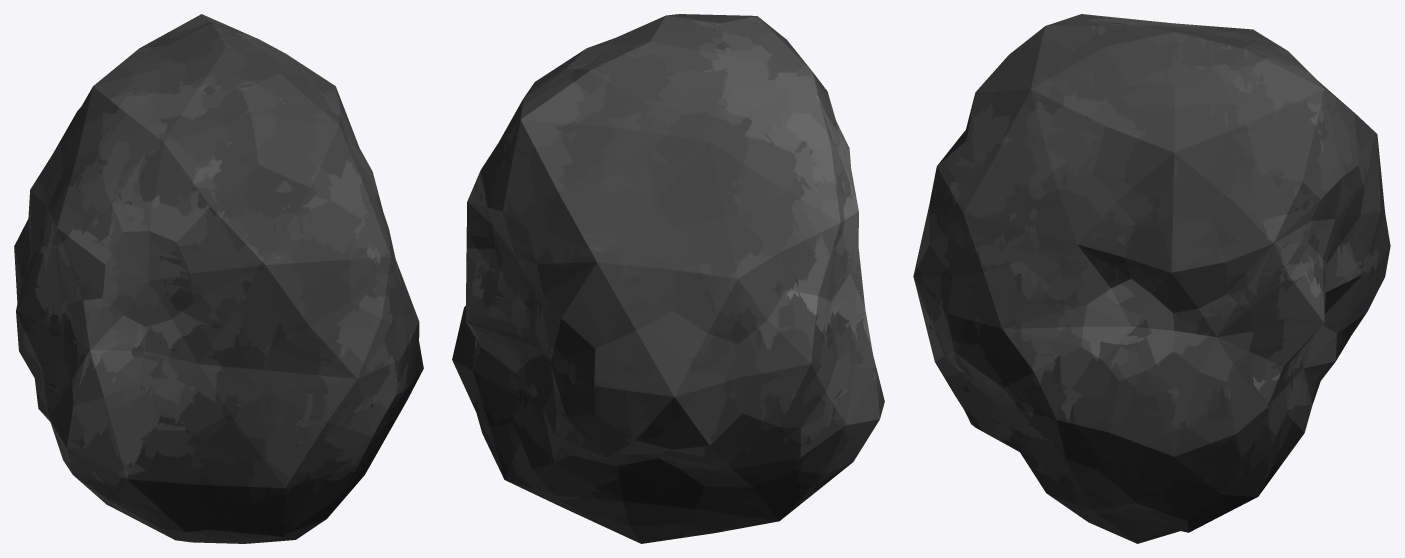
Rendered from PaleRock4.glb.
The picture shows the model from 3 angles, left to right: view 1: azimuth 30°, elevation 25°; view 2: azimuth 150°, elevation 25°; view 3: azimuth 270°, elevation 25°; orthographic projection. The views are drawn at different scales.
Visible parts, largest first — view 1: PaleRock4; view 2: PaleRock4; view 3: PaleRock4.
Part boxes in pixels (<box>): PaleRock4: <box>14,14,423,543</box>; PaleRock4: <box>452,14,884,543</box>; PaleRock4: <box>913,14,1390,543</box>.
Size of the model in its own units: 2.62 by 3.3 by 2.94.
Materials: 1 (1 with a texture image).
